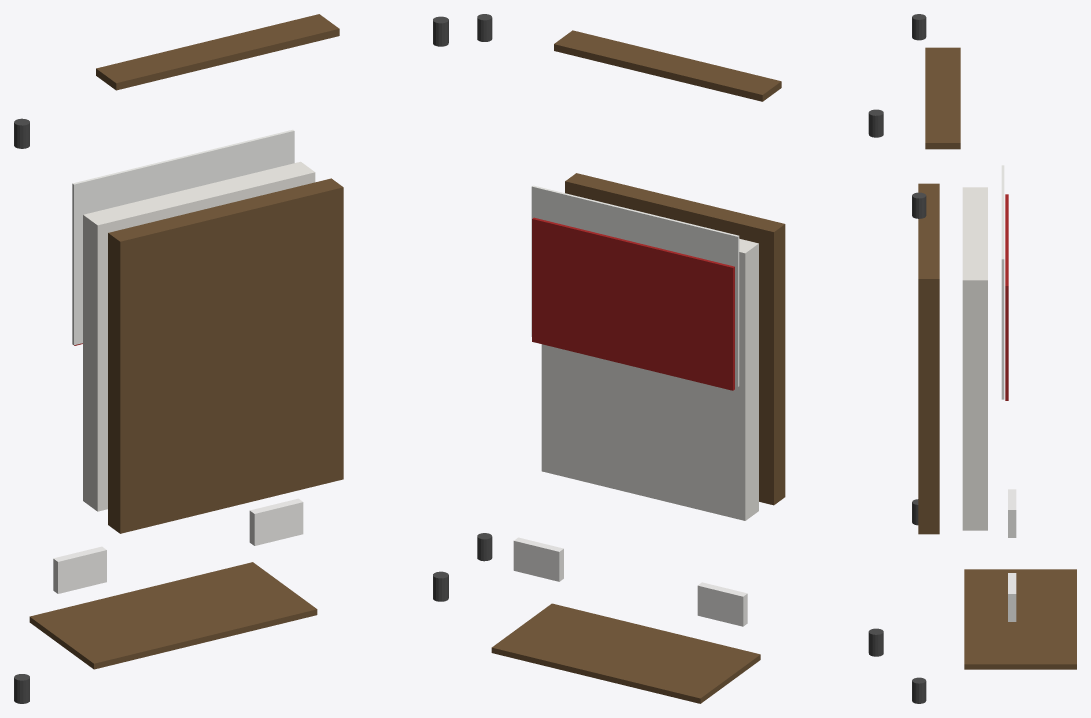
Rendered from bed_v2.glb.
3 views of the same model, side by side, from view 1: azimuth 30°, elevation 25°; view 2: azimuth 150°, elevation 25°; view 3: azimuth 270°, elevation 25° (orthographic). The views are drawn at different scales.
Visible parts, largest first — view 1: Base, Headboard, Mattress, Sheet, Footboard, Pillow_Right, Pillow_Left; view 2: Mattress, Blanket, Headboard, Base, Sheet, Footboard, Pillow_Right, Pillow_Left; view 3: Headboard, Mattress, Base, Footboard, Sheet, Blanket, Pillow_Left, Pillow_Right, Leg_3, Leg_1, Leg_2.
Boxes of the visible parts, x1,y1,x2,y2 form: Base: [108, 178, 343, 533]; Headboard: [29, 562, 317, 669]; Mattress: [83, 161, 315, 511]; Sheet: [72, 129, 294, 345]; Footboard: [96, 14, 339, 90]; Pillow_Right: [249, 498, 303, 545]; Pillow_Left: [53, 546, 106, 593]; Mattress: [541, 238, 758, 520]; Blanket: [532, 217, 734, 390]; Headboard: [491, 603, 760, 703]; Base: [565, 173, 785, 505]; Sheet: [531, 185, 739, 386]; Footboard: [554, 30, 781, 101]; Pillow_Right: [513, 537, 563, 581]; Pillow_Left: [697, 582, 747, 626]; Headboard: [964, 569, 1076, 669]; Mattress: [962, 187, 987, 530]; Base: [918, 183, 939, 534]; Footboard: [925, 47, 960, 149]; Sheet: [1001, 165, 1004, 399]; Blanket: [1005, 194, 1008, 400]; Pillow_Left: [1008, 489, 1016, 537]; Pillow_Right: [1008, 573, 1016, 621]; Leg_3: [912, 192, 926, 218]; Leg_1: [912, 677, 926, 703]; Leg_2: [912, 14, 926, 40].
Size of the model in its own units: 1.55 by 2.06 by 0.585.
